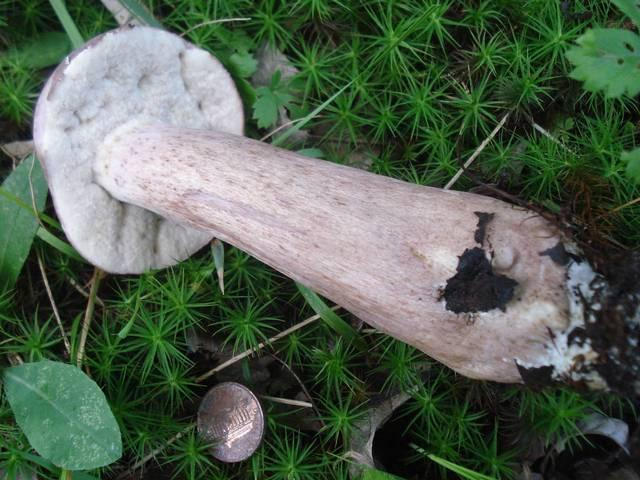Non-edible Mushroom: (31, 23, 624, 388)
